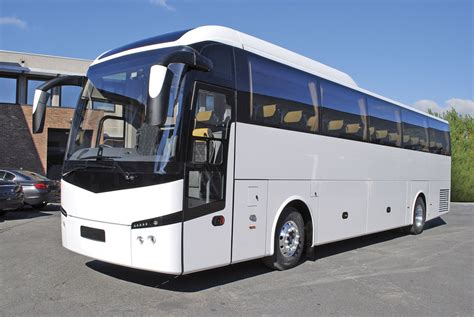bus: (58, 32, 450, 273)
